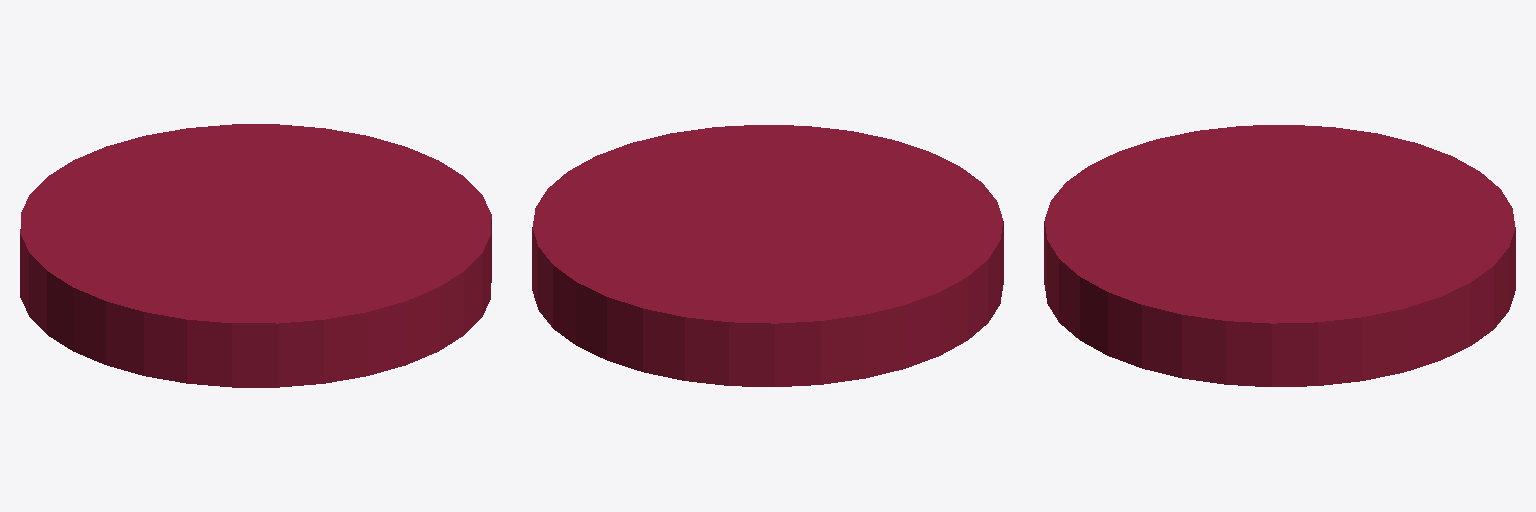
robot.urdf — Interference:
<?xml version="1.0"?>
<robot name="Interference">
  <link name="baseLink">
    <inertial>
      <origin xyz="0.0 0.0 0.0" rpy="0.0 0.0 0.0"/>
      <inertia ixx="0.0" ixy="0.0" ixz="0.0" iyy="0.0" iyz="0.0" izz="0.0"/>
      <mass value="0"/>
    </inertial>
    <visual>
      <origin xyz="0.0 0.0 0.0" rpy="0.0 0.0 1.1436079054950832"/>
      <geometry>
        <cylinder radius="0.033473105422273025" length="0.01"/>
      </geometry>
      <material name="color">
        <color rgba="0.6141536136885543 0.15431392356656848 0.2694710463534 1.0"/>
      </material>
    </visual>
  </link>
</robot>

--- Facts derived from the render (not from the file) ---
The picture shows the robot from 3 angles, left to right: view 1: azimuth 30°, elevation 25°; view 2: azimuth 150°, elevation 25°; view 3: azimuth 270°, elevation 25°; orthographic projection.
Robot: Interference — 1 links, 0 joints (none); root link baseLink; default pose: all joints at 0.
Visible links, largest first — view 1: baseLink; view 2: baseLink; view 3: baseLink.
Boxes of the visible links, x1=… form: baseLink: x1=20, y1=124, x2=491, y2=387; baseLink: x1=532, y1=125, x2=1003, y2=386; baseLink: x1=1044, y1=125, x2=1515, y2=386.
Size in the robot's own frame: 0.0669 by 0.0669 by 0.01 metres.
Geometry: primitives only (box / cylinder / sphere), no mesh files.